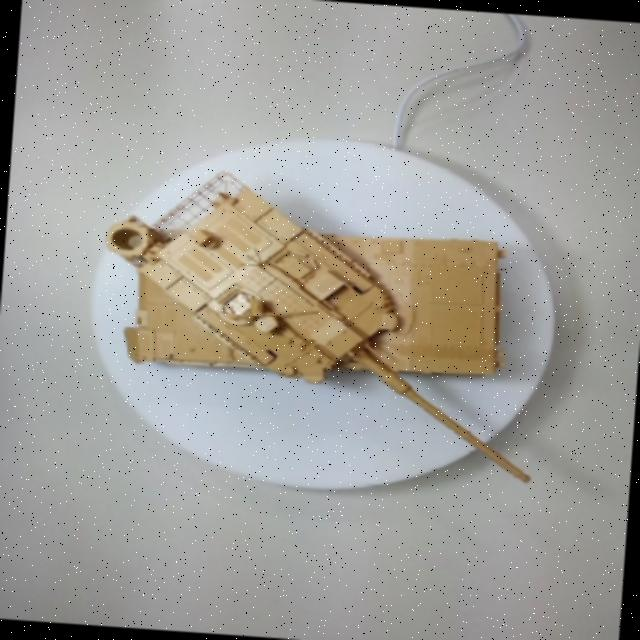korea tank: (63, 126, 622, 506)
